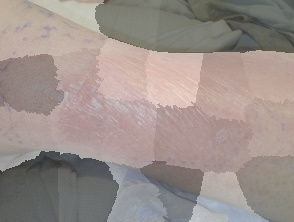SJS-TEN: (50, 41, 277, 180)
